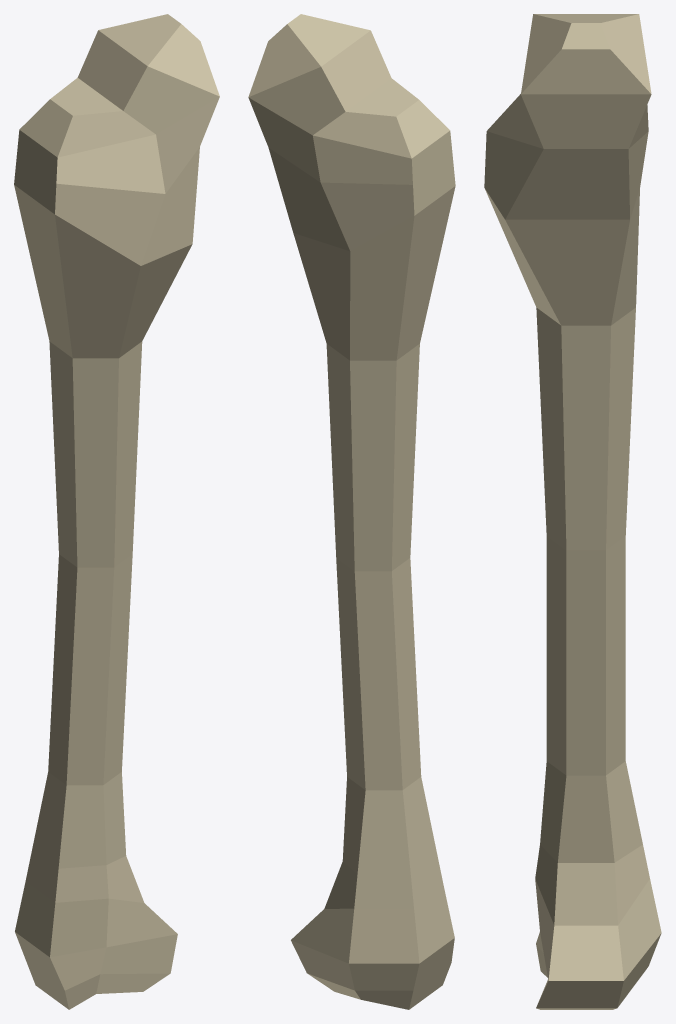
File: Femur.fbx
The picture shows the model from 3 angles, left to right: view 1: azimuth 30°, elevation 25°; view 2: azimuth 150°, elevation 25°; view 3: azimuth 270°, elevation 25°; orthographic projection. The views are drawn at different scales.
Parts seen in each view (by area): view 1: Femur; view 2: Femur; view 3: Femur.
Boxes of the visible parts, x1,y1,x2,y2 form: Femur: (14, 14, 219, 1009); Femur: (248, 14, 455, 1009); Femur: (484, 14, 661, 1009).
Bounding box in the file's own units: 26.93 × 155 × 24.5.
